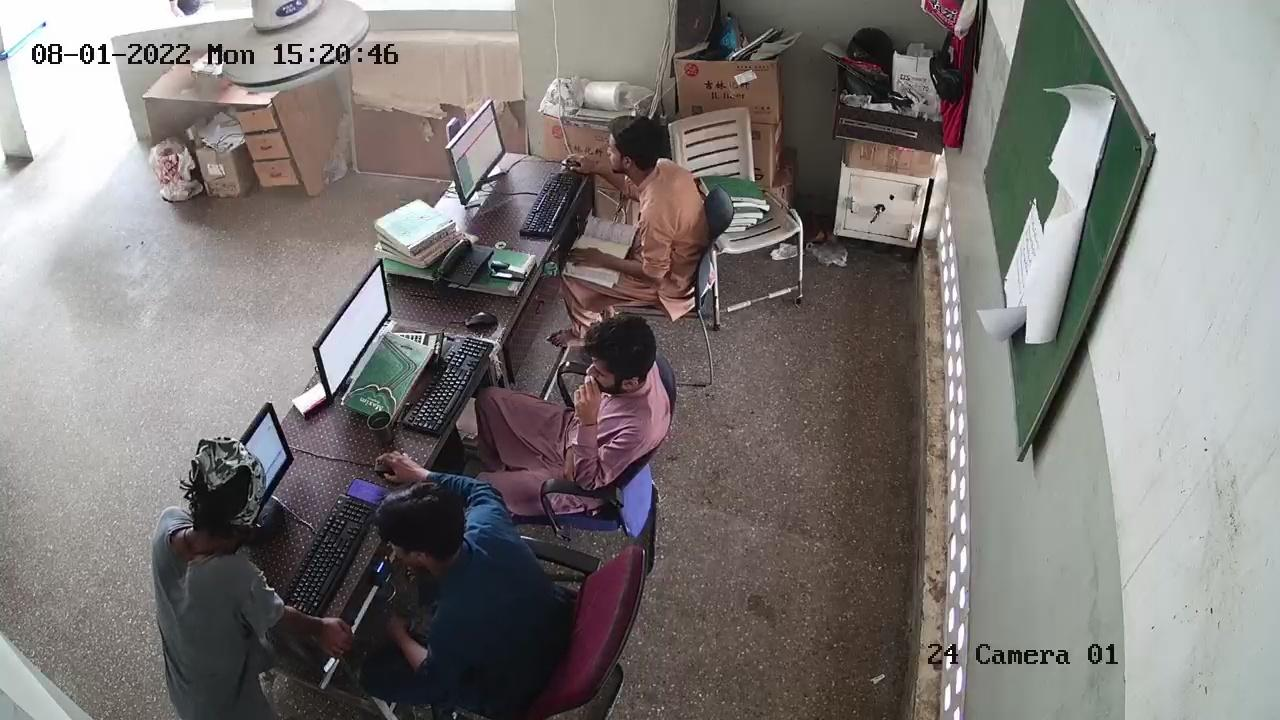person: (367, 470, 557, 690), (147, 435, 274, 720), (489, 305, 659, 497), (590, 112, 689, 285)
